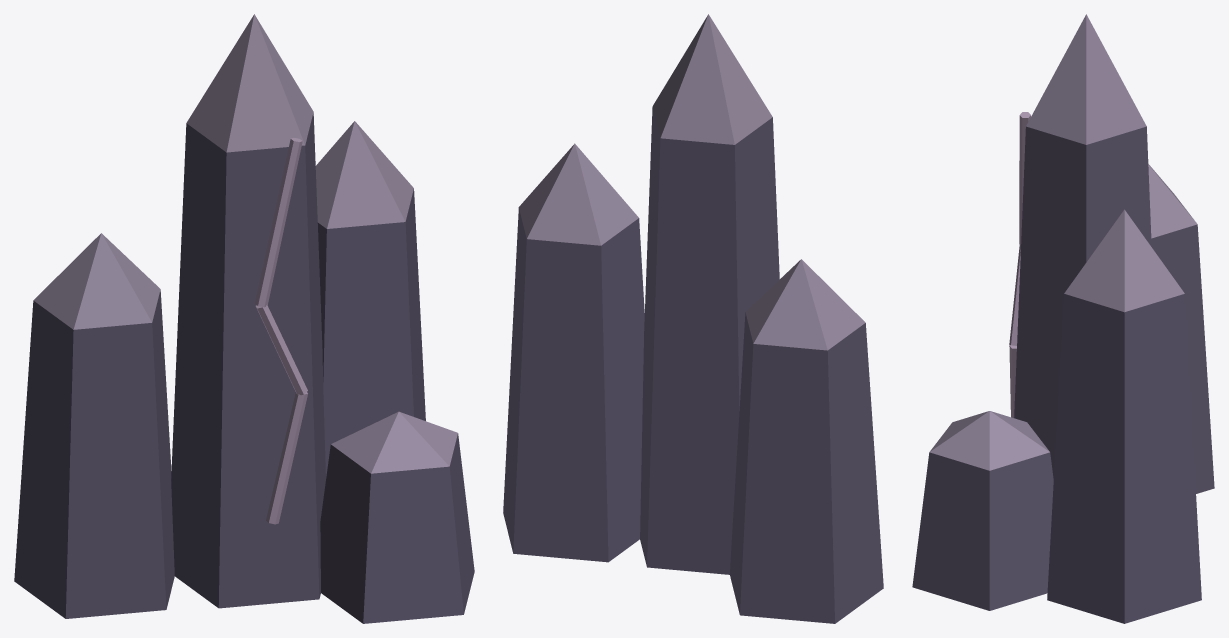
The model's file is map-exclusive-v3__dragon_03.glb.
3 views of the same model, side by side, from view 1: azimuth 30°, elevation 25°; view 2: azimuth 150°, elevation 25°; view 3: azimuth 270°, elevation 25° (orthographic). The views are drawn at different scales.
Visible parts, largest first — view 1: dragon_03; view 2: dragon_03; view 3: dragon_03.
Boxes of the visible parts, x1,y1,x2,y2 form: dragon_03: (14,14,474,623); dragon_03: (503,14,883,623); dragon_03: (912,14,1214,623).
Bounding box in the file's own units: 1.62 × 2.26 × 1.19.
